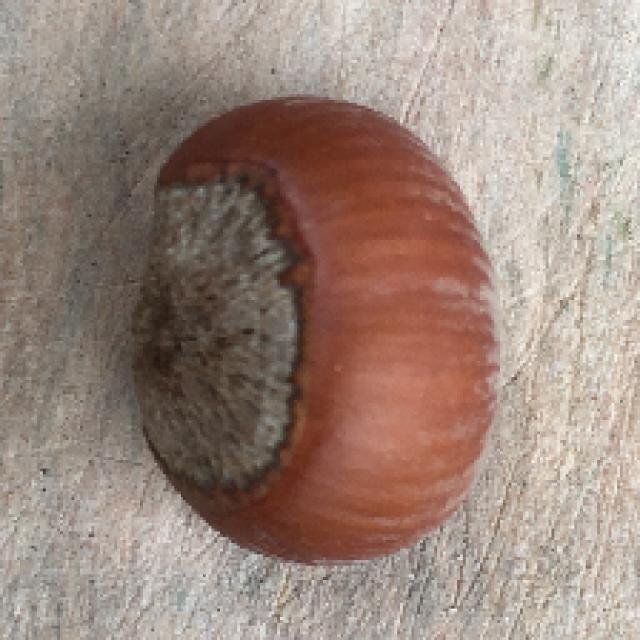QualityHazelnut: (126, 90, 509, 572)
